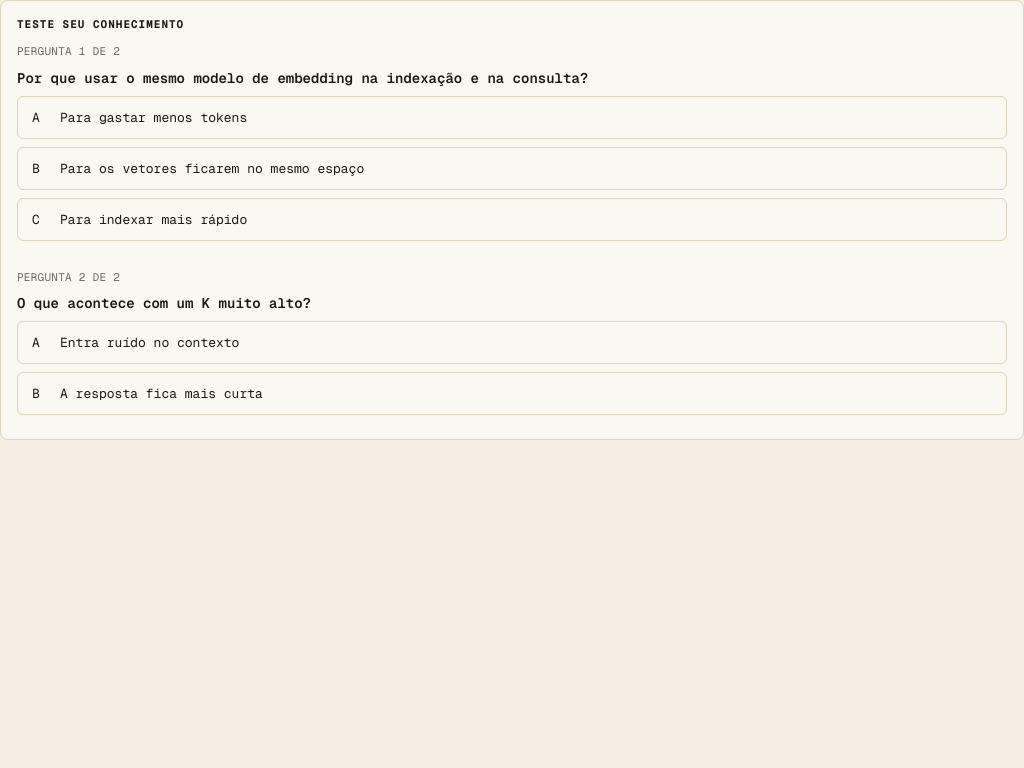
Test case: KnowledgeCheck (LES-01.12) › depois de responder, a escolha fica travada até tentar de novo
Click the button "A Para gastar menos tokens": click(154, 117) [17,96,1007,138]
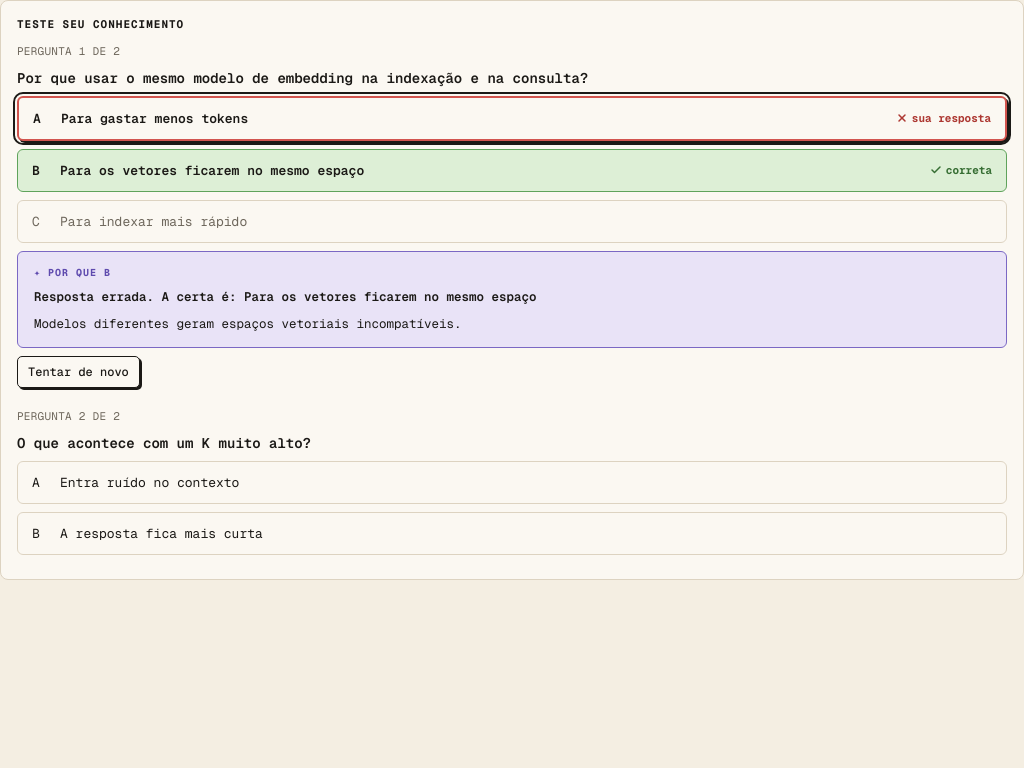
Click the button "C Para indexar mais rápido": click(154, 221) [17,200,1007,242]
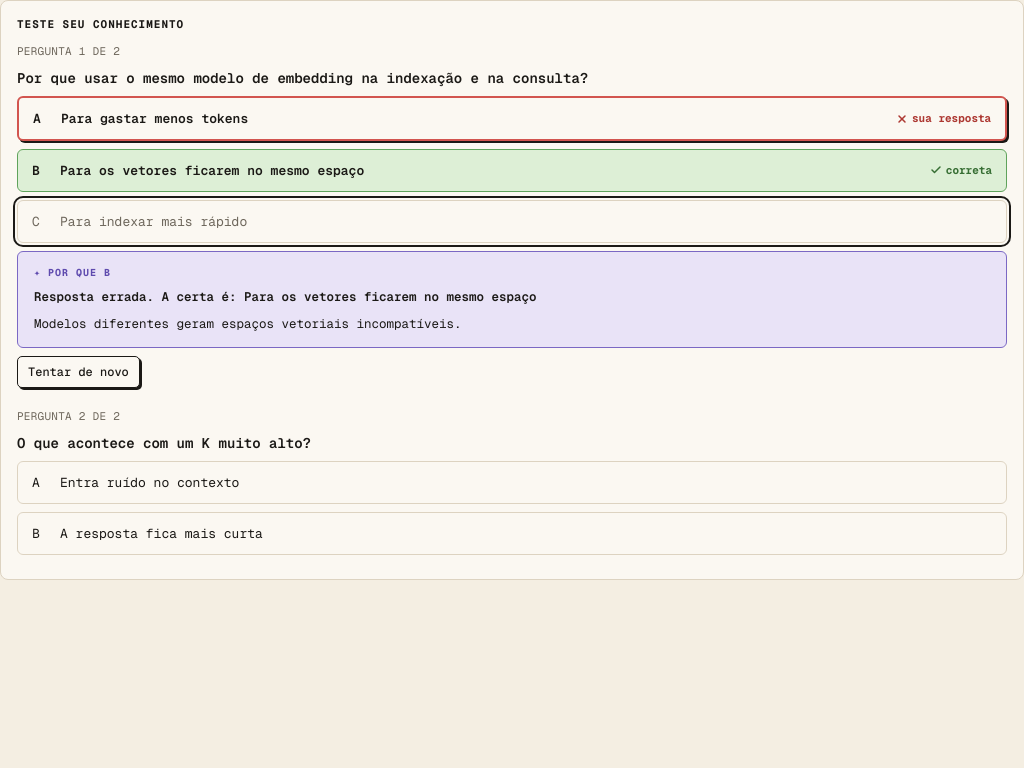
Check: the button "A Para gastar menos tokens sua resposta" is pressed, box [17,96,1007,140]
Click the button "Tentar de novo": click(78, 372) [17,356,140,388]
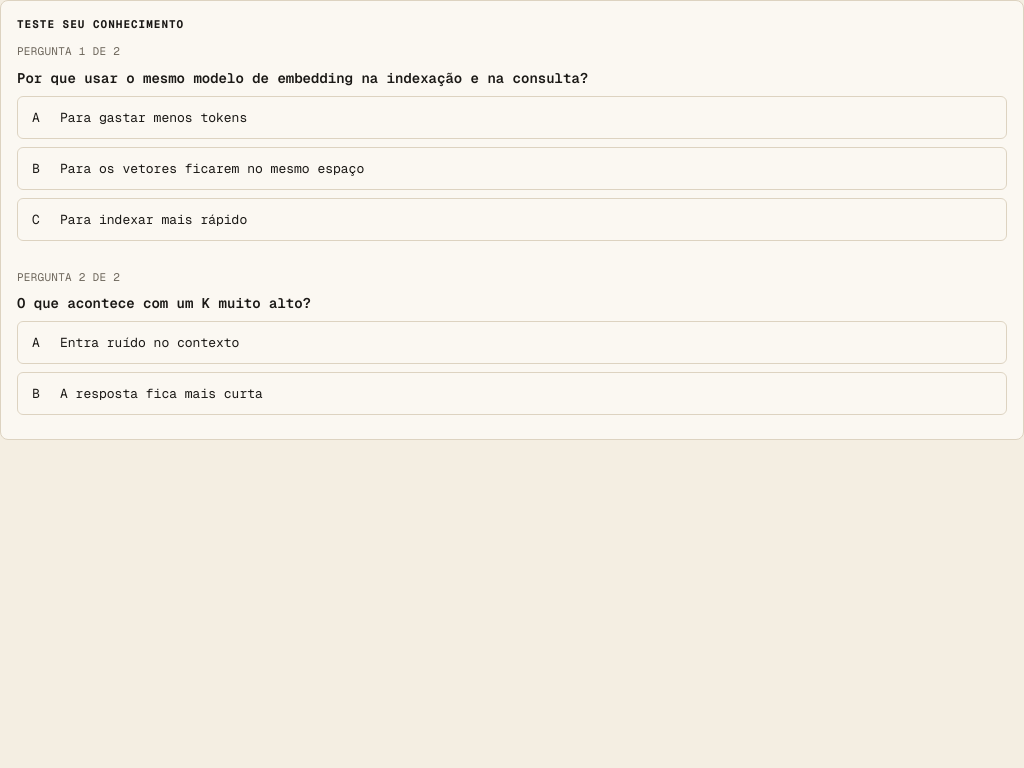
Check: the text "Modelos diferentes geram espaços vetoriais incompatíveis." is gone
